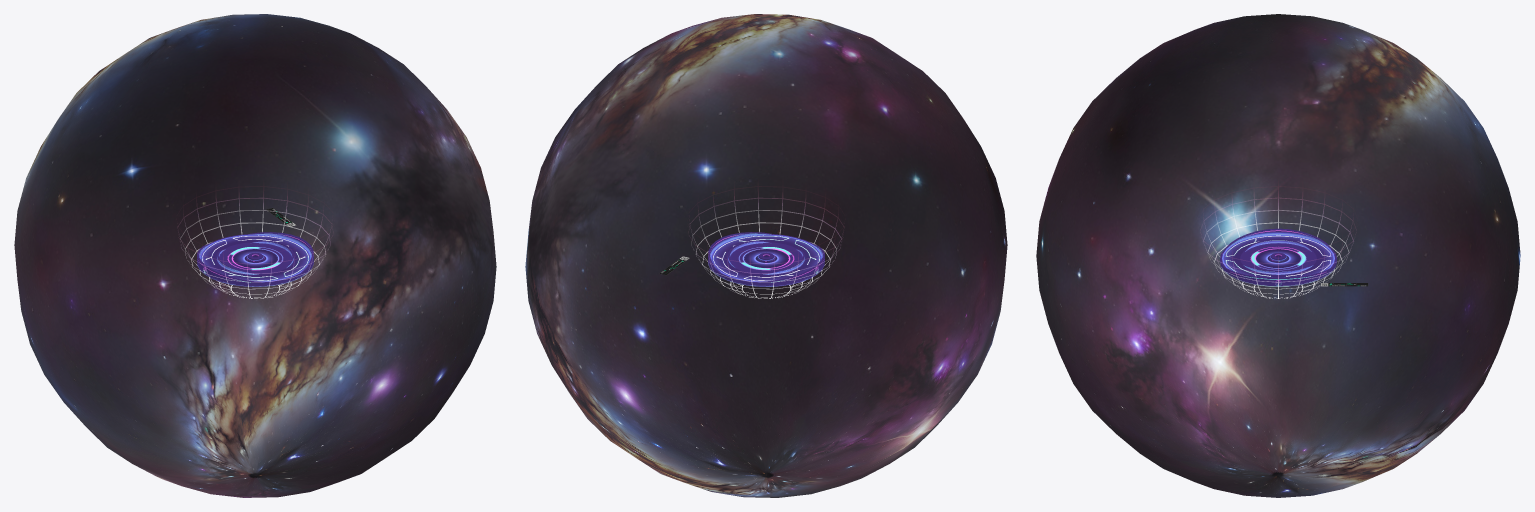
The model's file is showroom.glb.
The picture shows the model from 3 angles, left to right: view 1: azimuth 30°, elevation 25°; view 2: azimuth 150°, elevation 25°; view 3: azimuth 270°, elevation 25°; orthographic projection.
Visible parts, largest first — view 1: Domo_01_4, CA_Platform_02_3, CA_Grid_1; view 2: Domo_01_4, CA_Platform_02_3, CA_Grid_1; view 3: Domo_01_4, CA_Platform_02_3, CA_Grid_1.
Boxes of the visible parts, box(x1,y1,x2,y2) form: Domo_01_4: box(14, 14, 496, 497); CA_Platform_02_3: box(197, 232, 313, 286); CA_Grid_1: box(180, 198, 329, 298); Domo_01_4: box(525, 14, 1007, 497); CA_Platform_02_3: box(708, 232, 824, 286); CA_Grid_1: box(692, 198, 841, 298); Domo_01_4: box(1036, 14, 1520, 497); CA_Platform_02_3: box(1220, 228, 1336, 286); CA_Grid_1: box(1203, 196, 1353, 298).
Bounding box in the file's own units: 64.86 × 64.86 × 64.86.
Materials: 6 (6 with a texture image).
